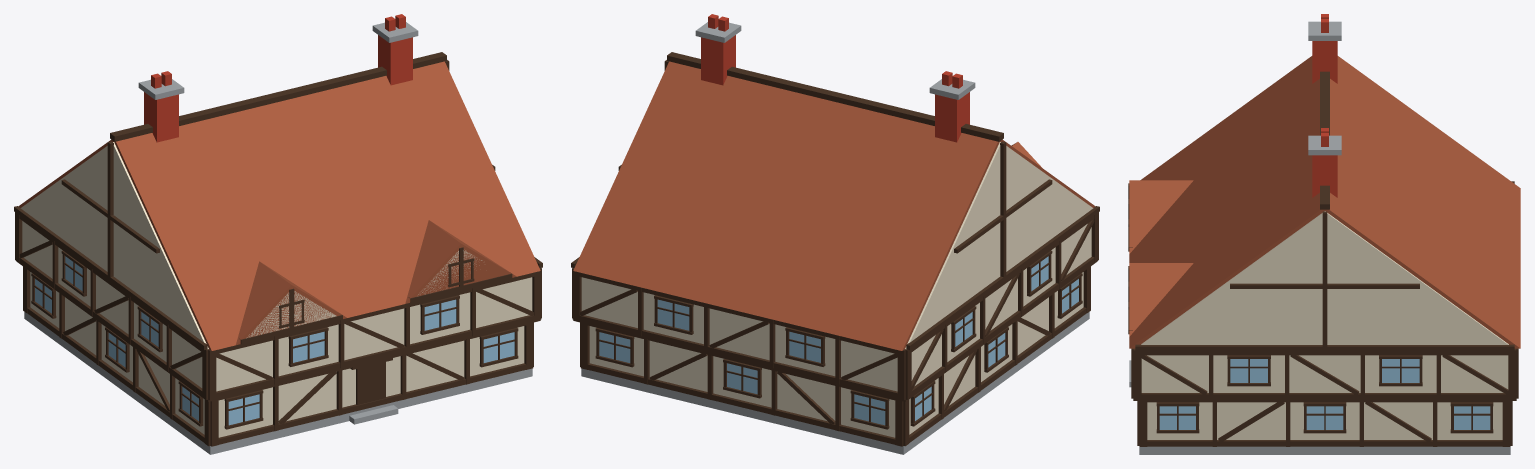
File: house-2x2-2f-tudor-a-solar.glb
The picture shows the model from 3 angles, left to right: view 1: azimuth 30°, elevation 25°; view 2: azimuth 150°, elevation 25°; view 3: azimuth 270°, elevation 25°; orthographic projection.
Visible parts, largest first — view 1: house-2x2-2f-tudor-a-solar; view 2: house-2x2-2f-tudor-a-solar; view 3: house-2x2-2f-tudor-a-solar.
Boxes of the visible parts, left/top/right/bottom form: house-2x2-2f-tudor-a-solar: left=14, top=14, right=542, bottom=454; house-2x2-2f-tudor-a-solar: left=571, top=14, right=1099, bottom=454; house-2x2-2f-tudor-a-solar: left=1128, top=14, right=1520, bottom=454.
Size of the model in its own units: 2 by 1.7 by 2.
Materials: 1 (1 with a texture image).
